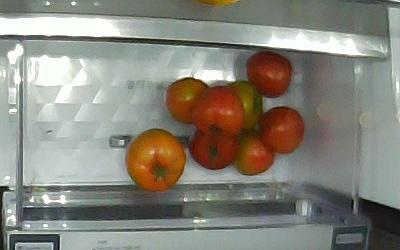tomato: (125, 130, 187, 191), (192, 87, 245, 135), (247, 52, 295, 101), (258, 108, 305, 155), (189, 130, 240, 171), (166, 77, 209, 125), (229, 81, 265, 129), (236, 135, 276, 175)
